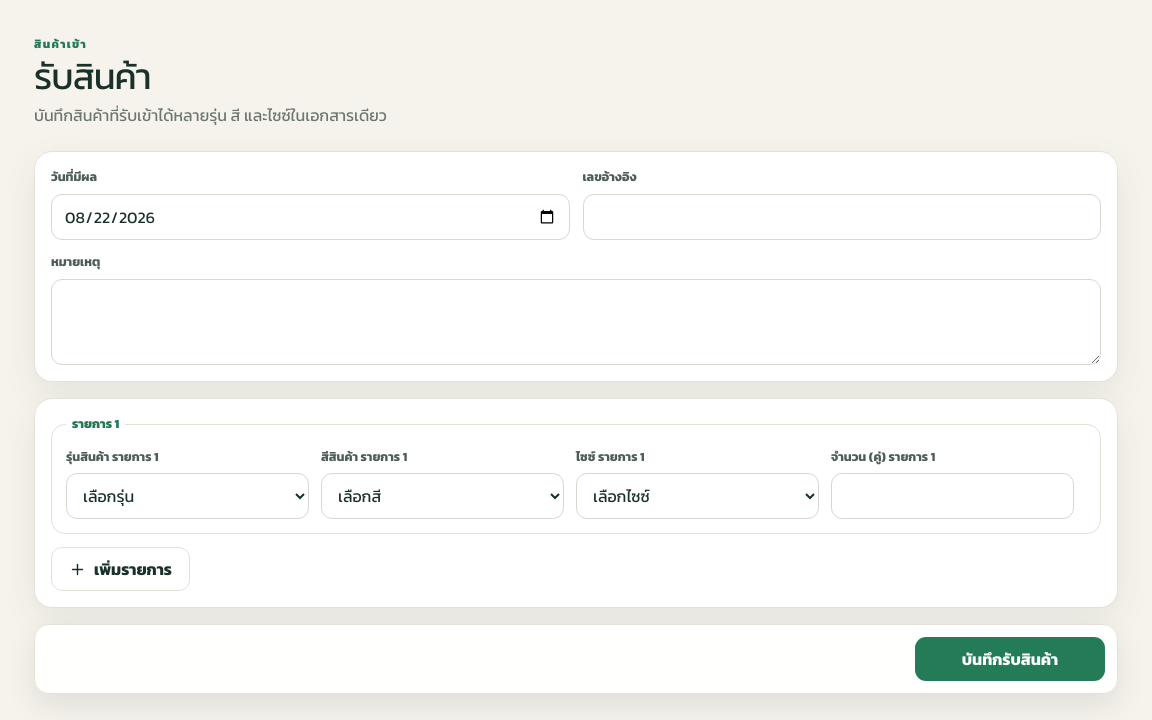
Test: ReceivePage › preserves entered lines after failure and confirms success with the generated number
The width and height of the screenshot is (1152, 720).
Check: the heading "รับสินค้า" is shown, box [34,49,151,103]
Select "Paris" in the dropdown labelled "รุ่นสินค้า รายการ 1" at [188, 496], box [67,474,308,518]
Select "Black" in the dropdown labelled "สีสินค้า รายการ 1" at [442, 496], box [322,474,563,518]
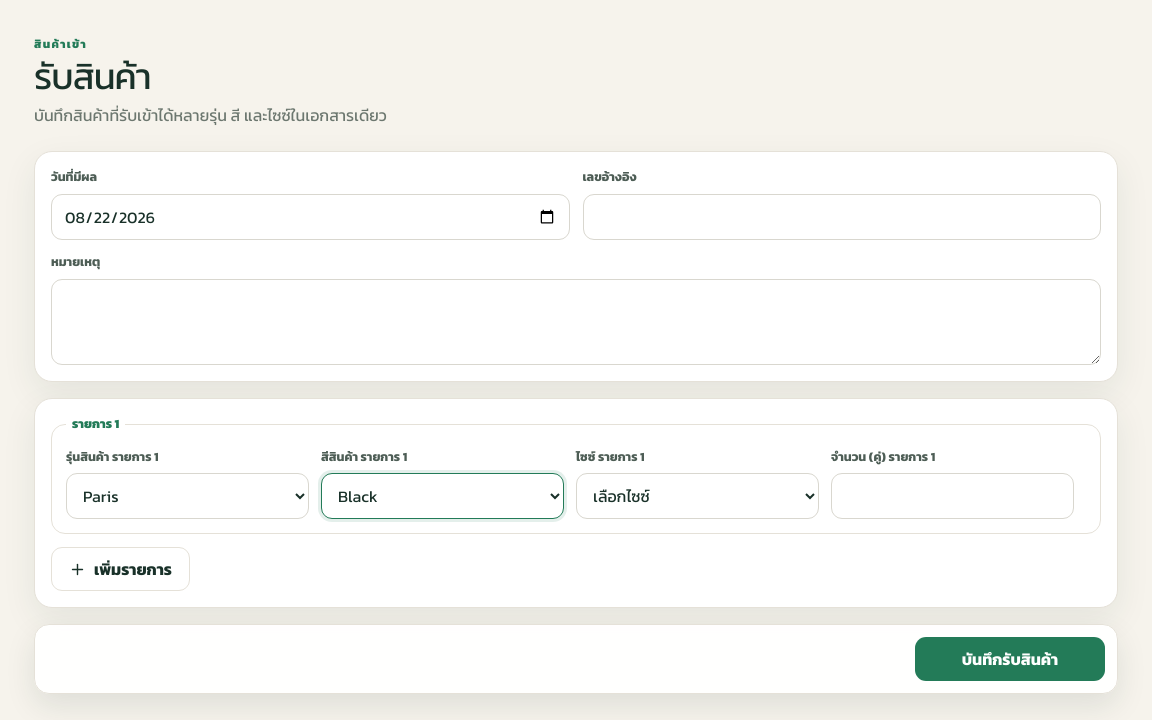
Select "M — EU 39–40 · 24–24.5 cm" in the dropdown labelled "ไซซ์ รายการ 1" at [698, 496], box [577,474,818,518]
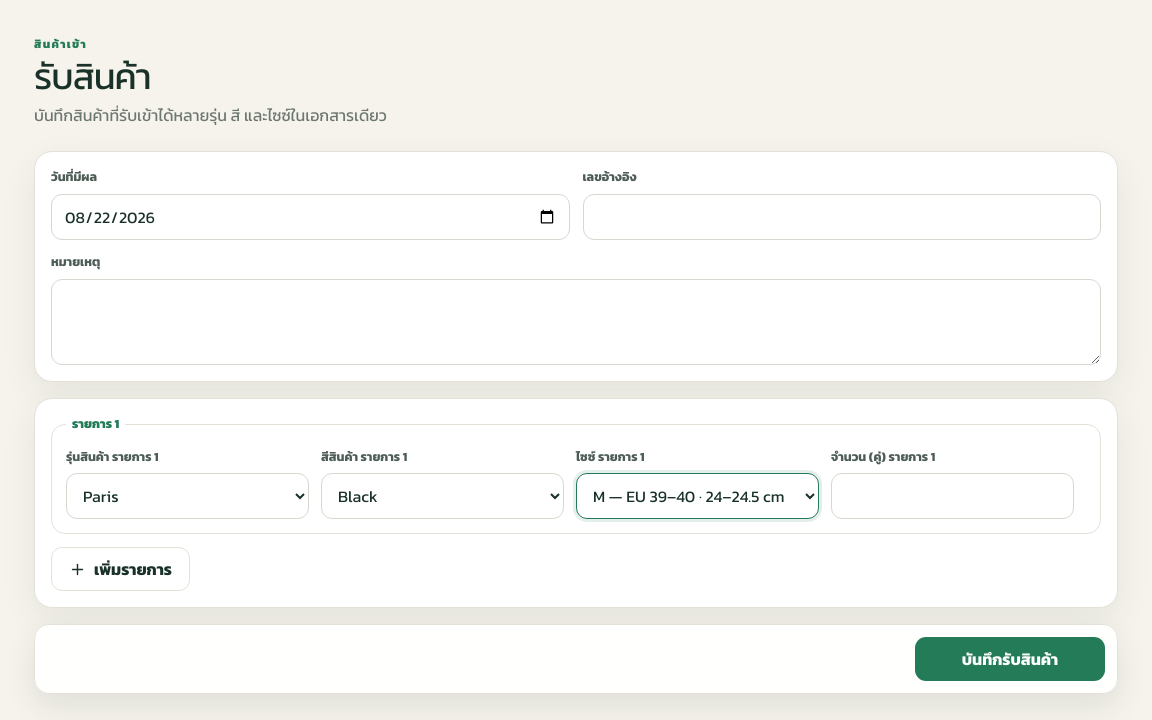
Type "3" into the number field labelled "จำนวน (คู่) รายการ 1" at [952, 496], box [832,474,1073,518]
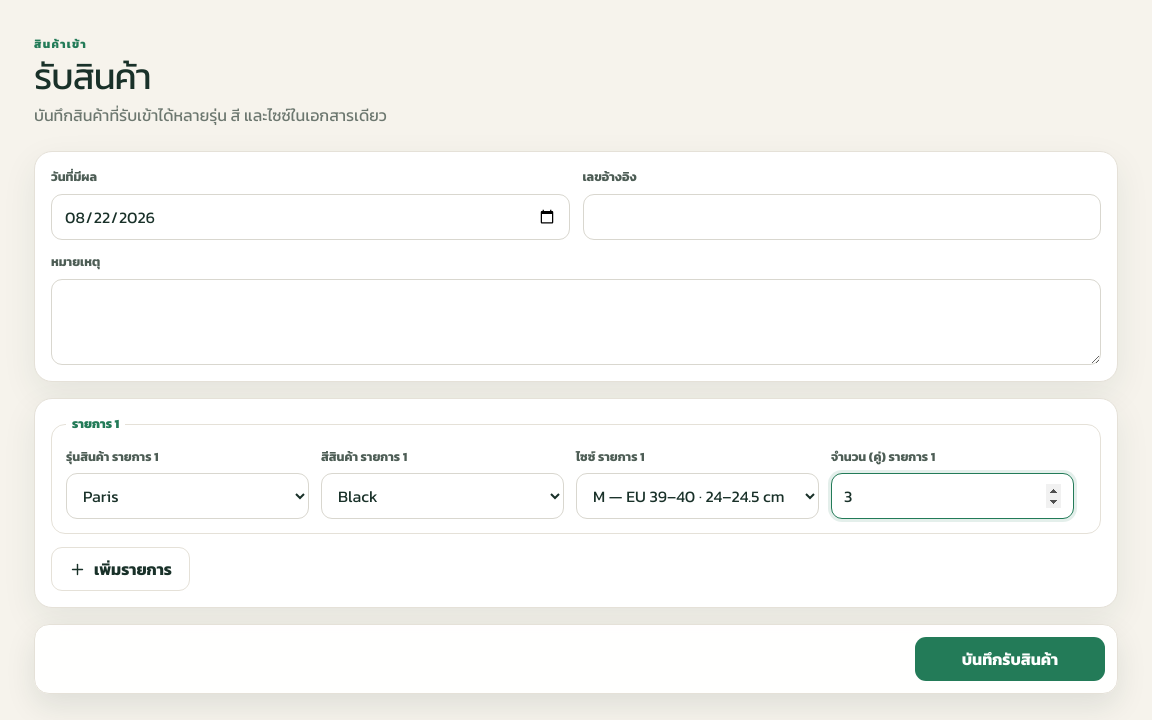
Type "PO-104" into the field labelled "เลขอ้างอิง" at [842, 217], box [584,195,1100,239]
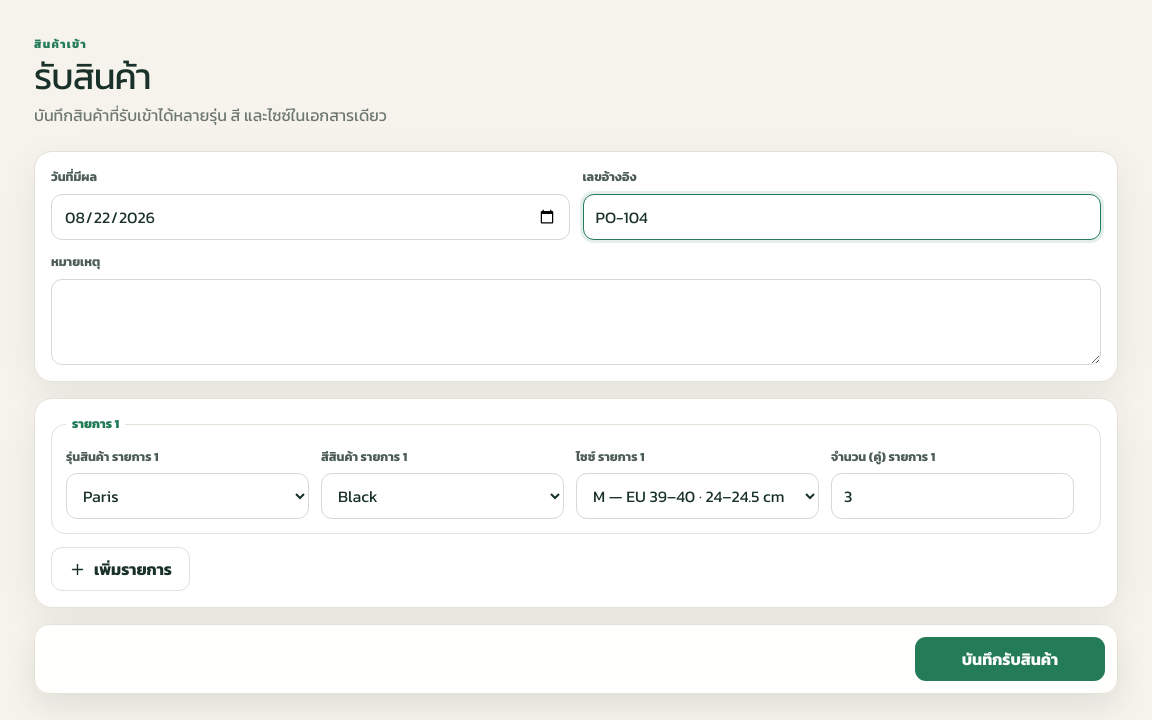
Click the button "บันทึกรับสินค้า" at [1010, 659], box [915,637,1105,681]
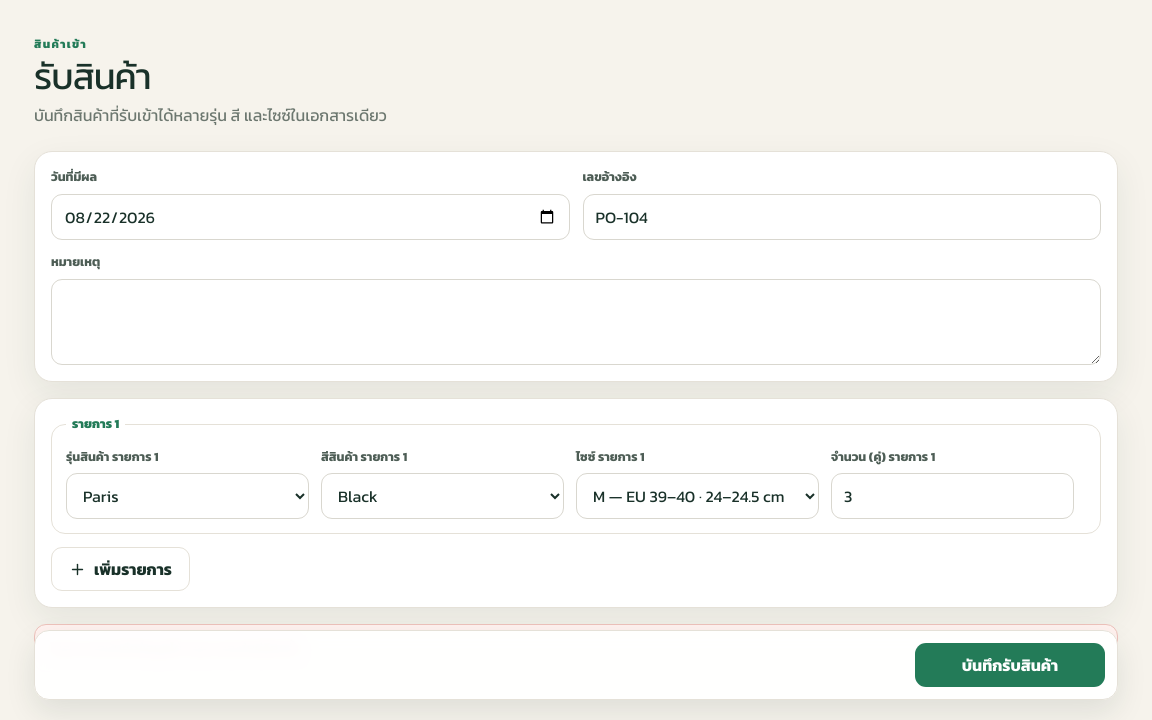
Click the button "บันทึกรับสินค้า" at [1010, 665], box [915,643,1105,687]
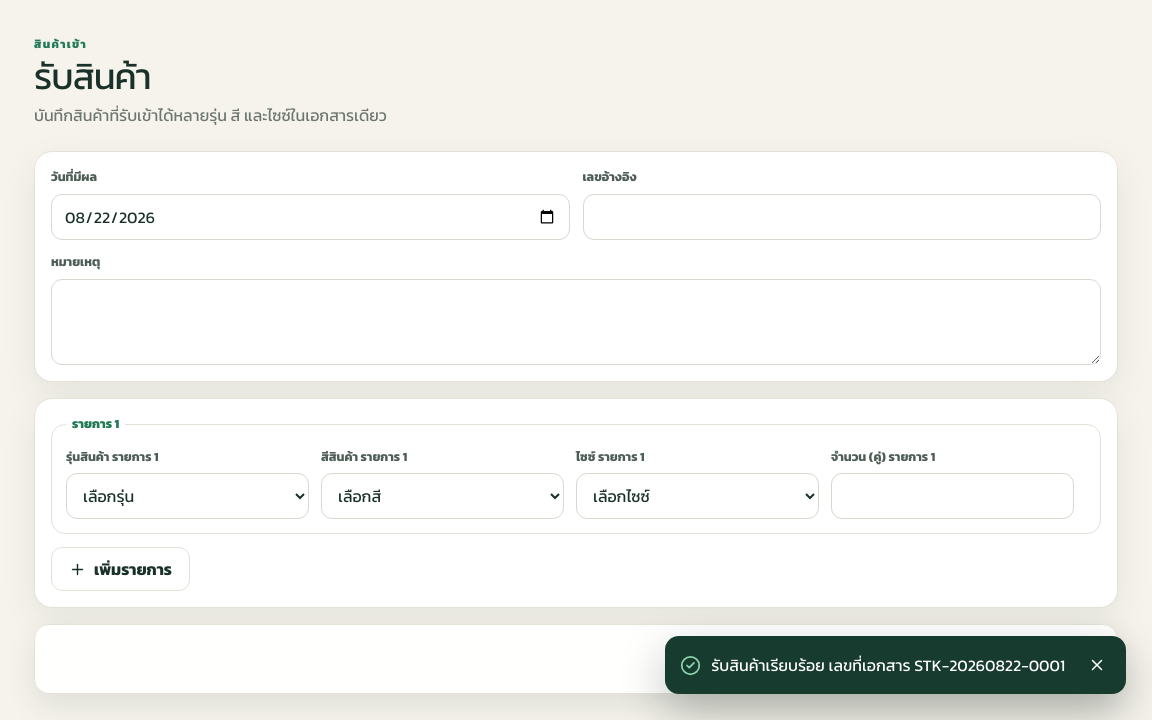
Check: the message named "บันทึกสำเร็จ" shows "รับสินค้าเรียบร้อย", box [711,653,1065,677]
Check: the message named "บันทึกสำเร็จ" reads "รับสินค้าเรียบร้อย เลขที่เอกสาร STK-20260822-0001", box [711,653,1065,677]
